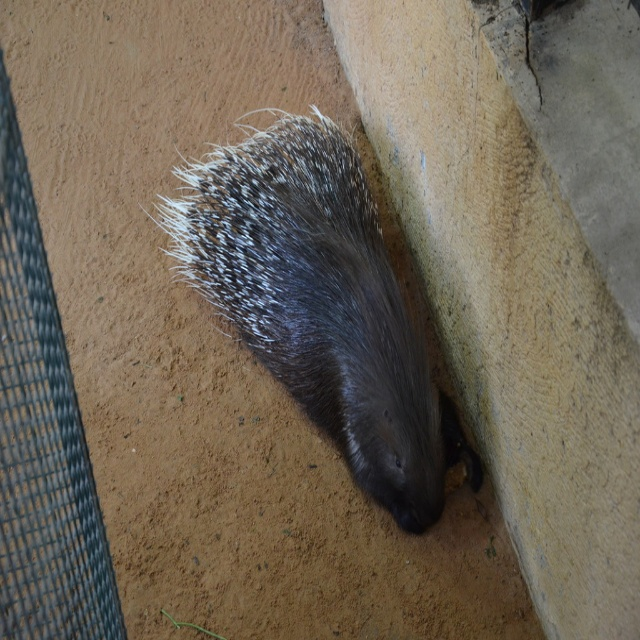Hedgehog: (137, 104, 484, 536)
